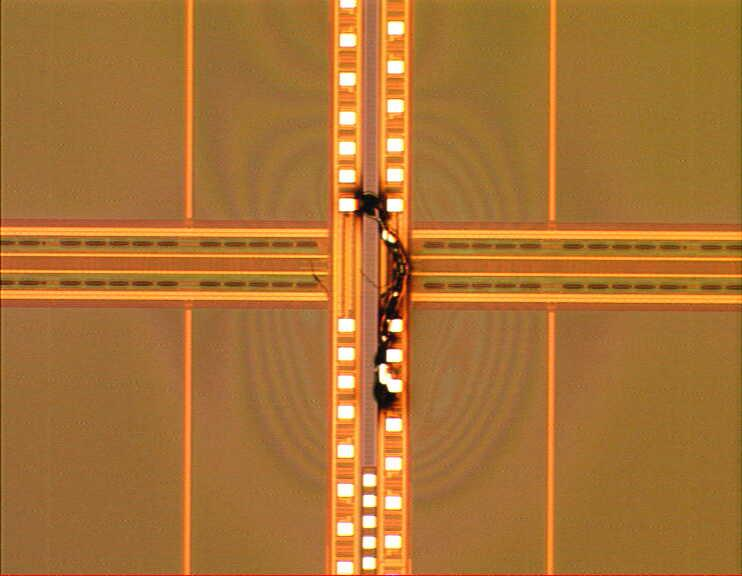PIQ PARTICLE: (343, 175, 425, 427)
